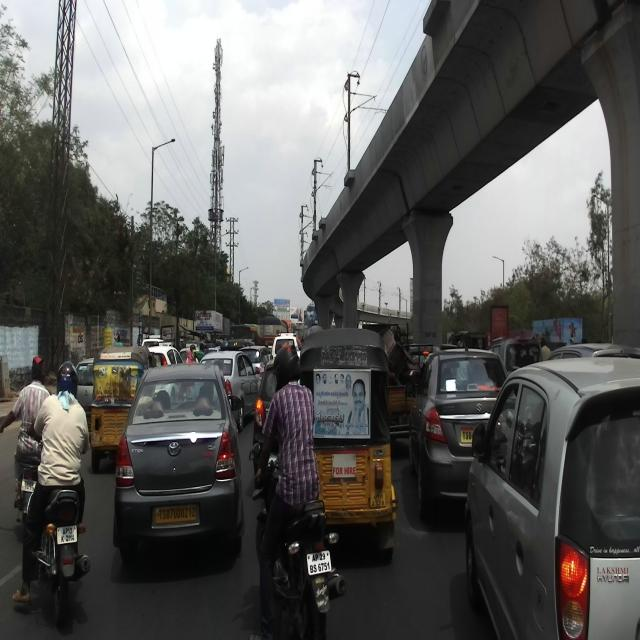Car_Hyundai: (466, 358, 640, 639)
Car_Maruti-Suzuki: (403, 348, 508, 524)
Car_Toyota: (113, 364, 248, 566)
autorickshaw: (297, 327, 395, 565), (91, 343, 152, 475)
motorcycle_bajaj: (247, 439, 355, 637)
